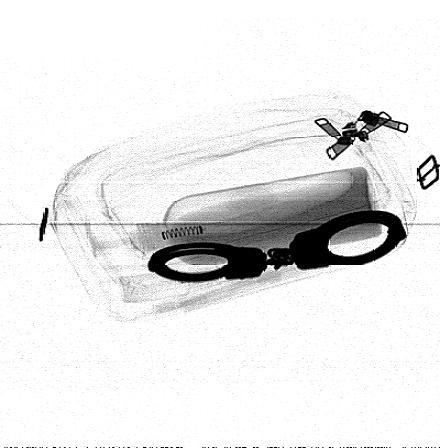HandCuffs: (147, 210, 408, 282)
